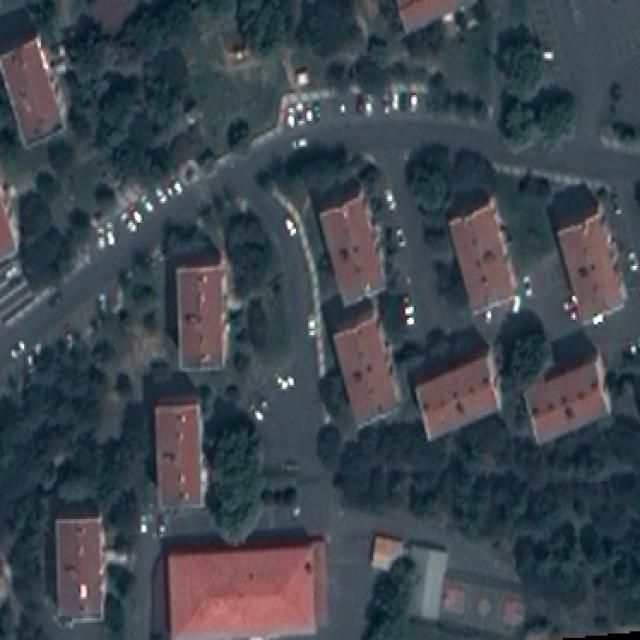Batiment: (171, 543, 323, 637), (547, 183, 625, 323), (524, 330, 610, 443), (449, 197, 515, 312), (319, 193, 385, 305), (415, 355, 497, 440), (0, 36, 61, 146), (334, 316, 396, 422), (442, 573, 525, 634), (155, 403, 203, 506), (178, 267, 225, 369), (58, 517, 103, 620), (409, 550, 447, 618)
